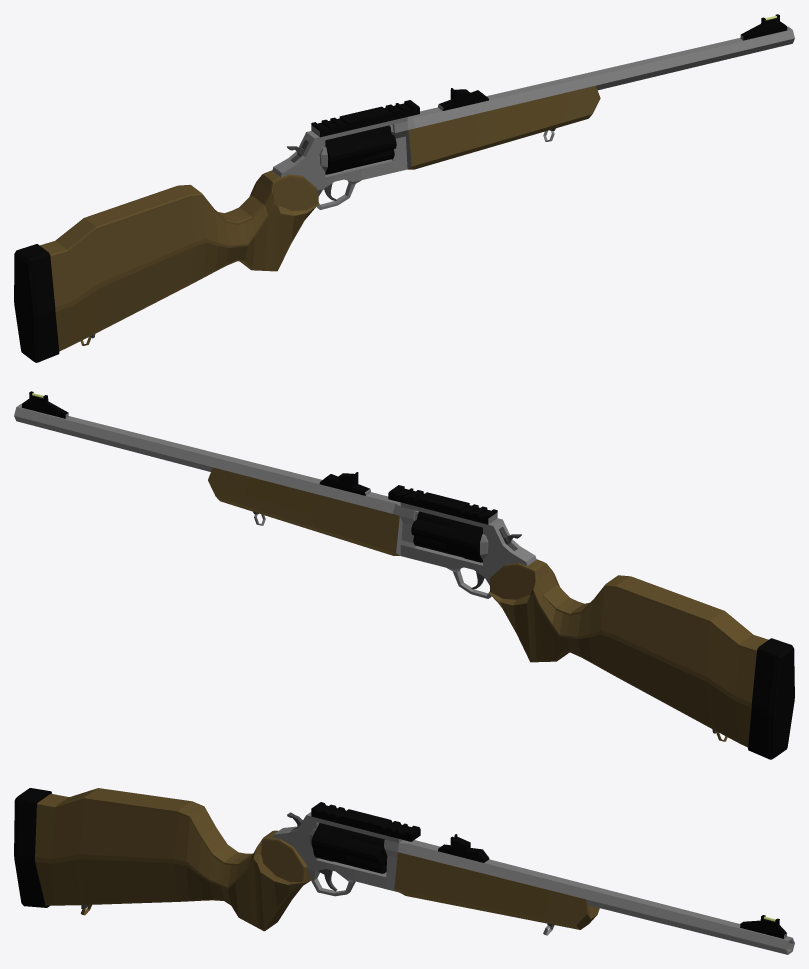
The model's file is taurus.obj.
3 views of the same model, one above another, from view 1: azimuth 30°, elevation 25°; view 2: azimuth 150°, elevation 25°; view 3: azimuth 330°, elevation 25° (orthographic). The views are drawn at different scales.
Parts seen in each view (by area): view 1: the_judge_Cube.002; view 2: the_judge_Cube.002; view 3: the_judge_Cube.002.
Part boxes in pixels (<box>): the_judge_Cube.002: <box>14,14,794,362</box>; the_judge_Cube.002: <box>14,391,794,759</box>; the_judge_Cube.002: <box>14,788,794,954</box>.
Size of the model in its own units: 1.27 by 0.2718 by 0.0725.
